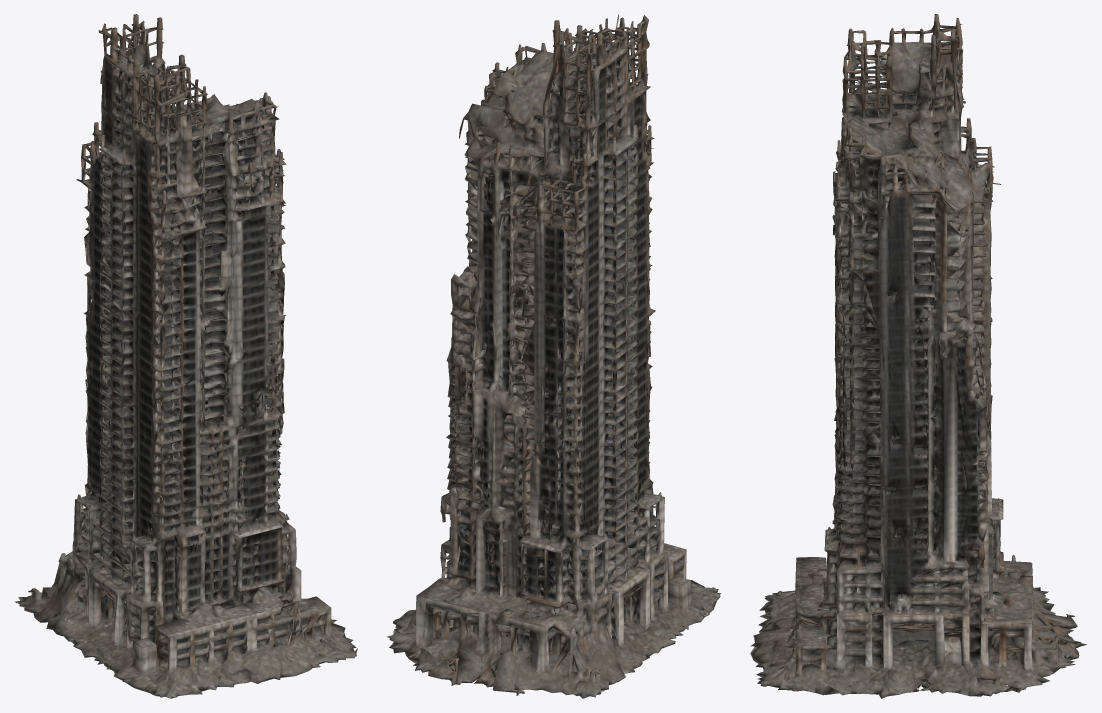
File: ascent.glb
3 views of the same model, side by side, from view 1: azimuth 30°, elevation 25°; view 2: azimuth 150°, elevation 25°; view 3: azimuth 270°, elevation 25° (orthographic). The views are drawn at different scales.
Parts seen in each view (by area): view 1: Mesh_0; view 2: Mesh_0; view 3: Mesh_0.
Boxes of the visible parts, <box> form: Mesh_0: <box>14,14,357,698</box>; Mesh_0: <box>387,14,721,698</box>; Mesh_0: <box>750,14,1086,698</box>.
Size of the model in its own units: 0.7698 by 1.9 by 0.9736.
1 material, 1 textured.
